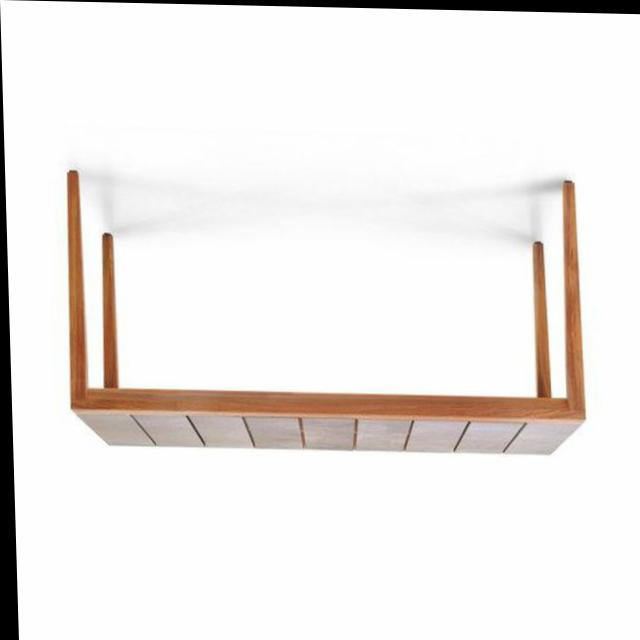Table: (33, 120, 607, 479)
